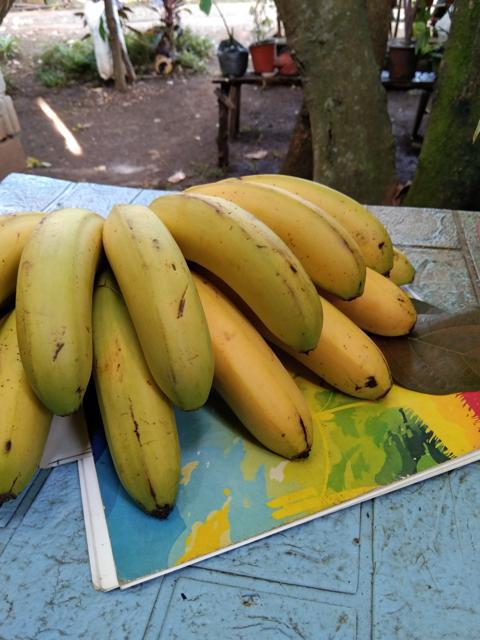freshripe: (192, 284, 328, 467)
ripe: (157, 181, 318, 342), (88, 314, 191, 520), (233, 171, 368, 301), (299, 288, 395, 400)
